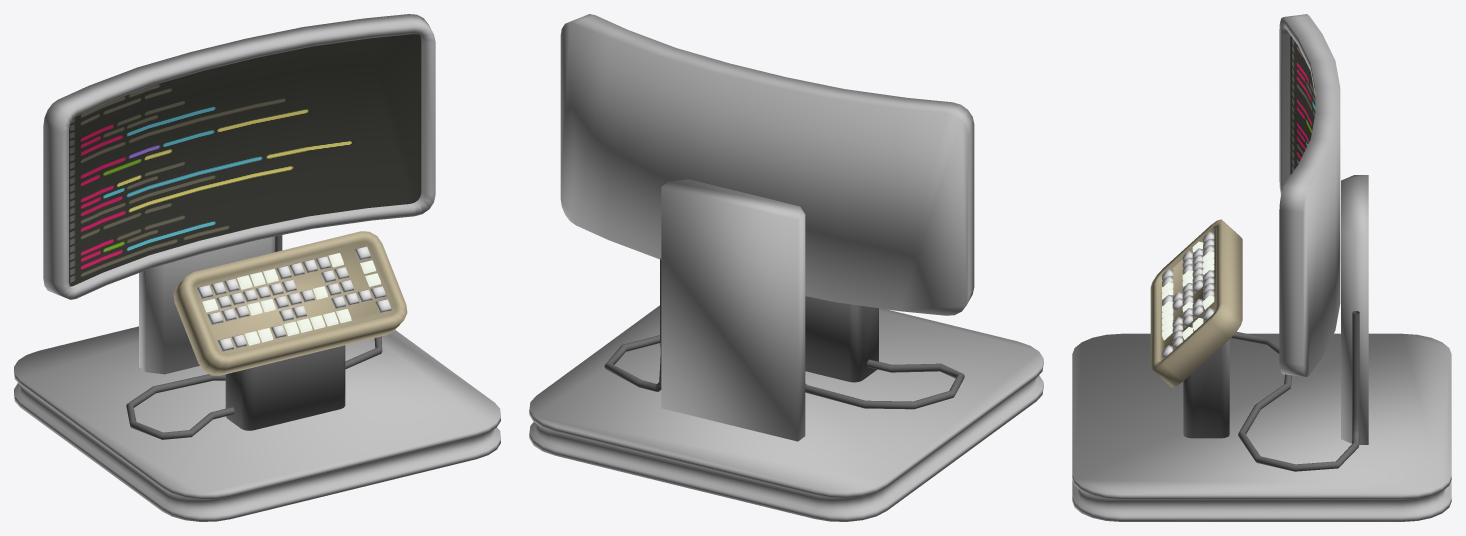
File: 4aiscreenop.glb
3 views of the same model, side by side, from view 1: azimuth 30°, elevation 25°; view 2: azimuth 150°, elevation 25°; view 3: azimuth 270°, elevation 25° (orthographic). The views are drawn at different scales.
Parts seen in each view (by area): view 1: Plane.005, Plane, Plane.003, Plane.006, Plane.002, Plane.004, Vert; view 2: Plane.005, Plane, Plane.004, Plane.002, Vert; view 3: Plane, Plane.005, Plane.003, Plane.004, Plane.006, Plane.002, Vert.
Boxes of the visible parts, x1,y1,x2,y2 form: Plane.005: (43,14,435,299); Plane: (14,326,500,521); Plane.003: (173,231,407,375); Plane.006: (197,246,391,352); Plane.002: (225,345,345,430); Plane.004: (139,236,275,374); Vert: (126,235,382,439); Plane.005: (560,14,974,315); Plane: (529,305,1043,521); Plane.004: (661,179,805,441); Plane.002: (805,296,878,382); Vert: (604,258,964,409); Plane: (1072,333,1451,521); Plane.005: (1279,14,1340,376); Plane.003: (1150,219,1242,387); Plane.004: (1341,175,1368,444); Plane.006: (1162,232,1214,358); Plane.002: (1183,339,1229,438); Vert: (1231,311,1359,471).
Bounding box in the file's own units: 9.31 × 7.93 × 8.
Materials: 6 (1 with a texture image).
